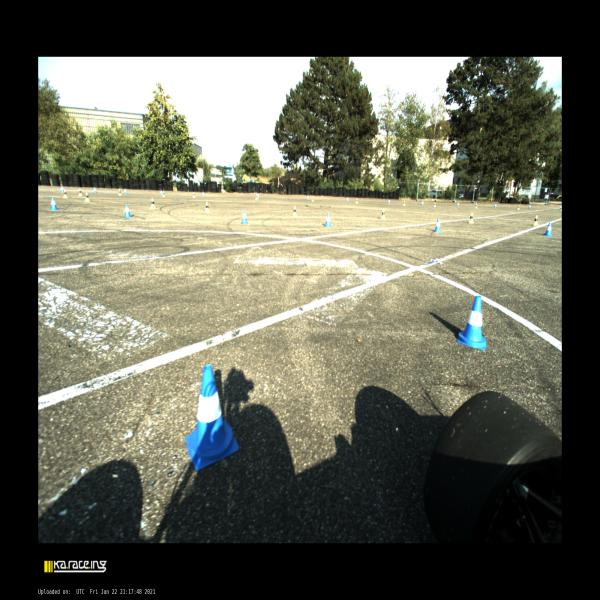blue_cone: (185, 365, 239, 470), (457, 295, 486, 351), (124, 203, 132, 217), (544, 222, 552, 235), (50, 197, 58, 210), (434, 218, 441, 232), (324, 213, 331, 227), (241, 210, 248, 224), (93, 187, 97, 193), (60, 186, 64, 192), (124, 188, 127, 193), (346, 198, 349, 202), (421, 200, 423, 205), (388, 199, 390, 204), (457, 202, 459, 206), (528, 205, 530, 208), (494, 204, 496, 207)
yellow_cone: (468, 212, 474, 223), (533, 215, 538, 226), (151, 198, 156, 208), (381, 208, 385, 219), (292, 206, 296, 216), (205, 202, 209, 212), (63, 190, 68, 198), (85, 193, 89, 201), (78, 189, 82, 196), (118, 189, 122, 195), (355, 198, 358, 204), (192, 192, 195, 198), (517, 205, 520, 209), (312, 196, 314, 202), (256, 194, 258, 200), (403, 200, 405, 206)
